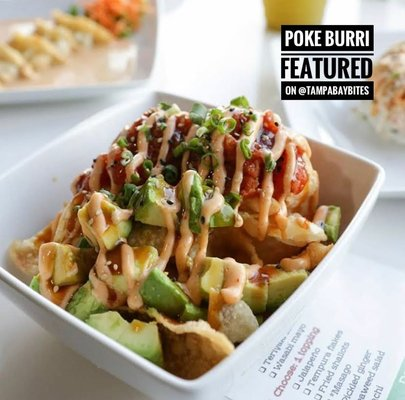curry: (139, 268, 203, 322)
sushi: (7, 92, 389, 389), (0, 1, 158, 98)
